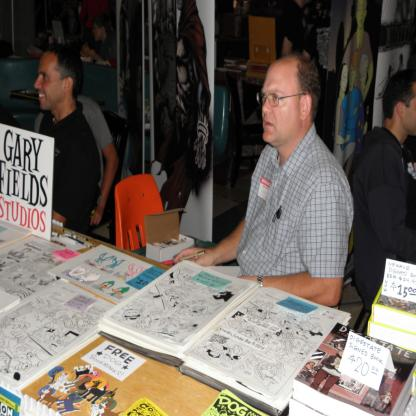book: (294, 322, 416, 416), (368, 271, 416, 350)
